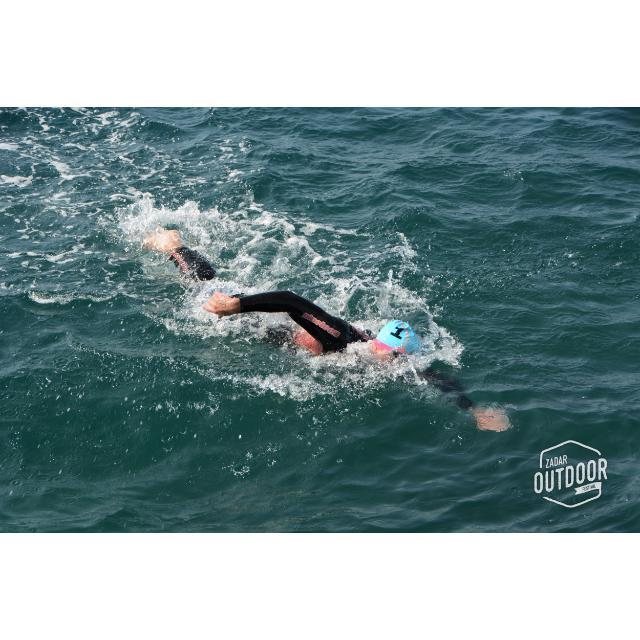human: (147, 226, 508, 433)
